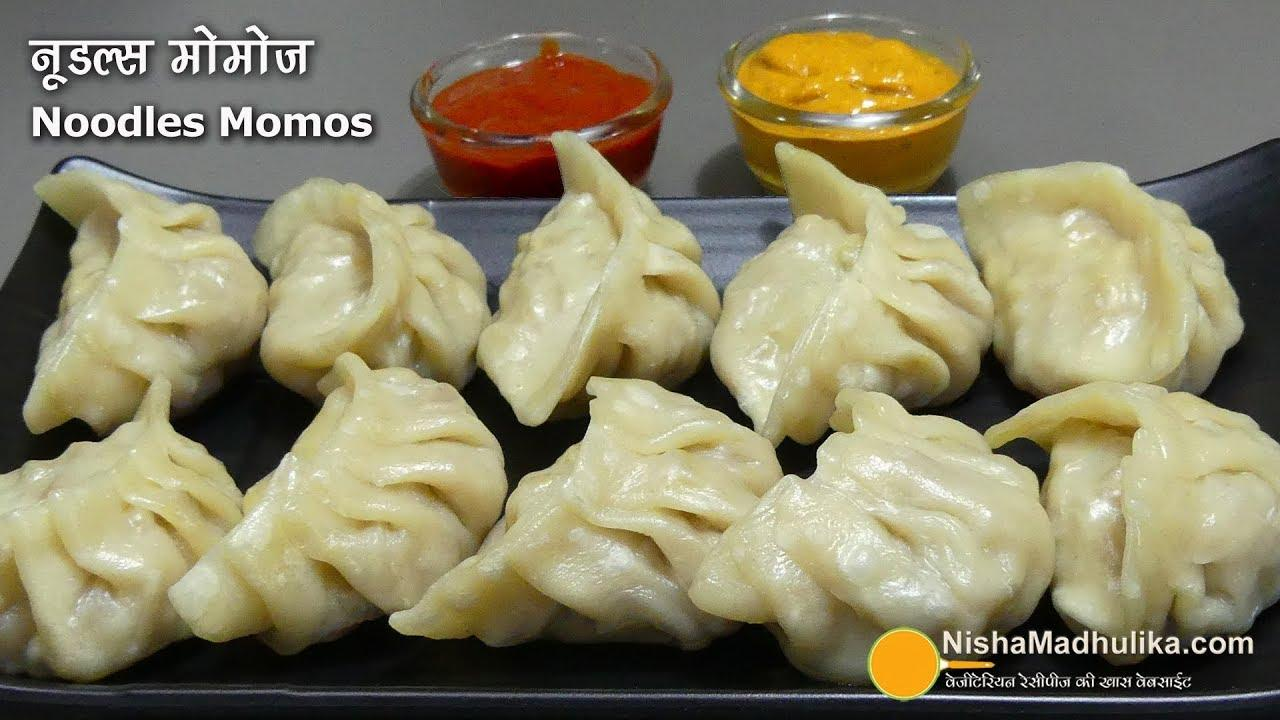momos: (390, 378, 782, 650), (690, 390, 1055, 682), (170, 355, 508, 655), (965, 382, 1280, 662), (710, 142, 992, 444), (230, 355, 508, 652), (0, 378, 242, 681), (478, 132, 720, 425), (958, 162, 1242, 396), (22, 170, 268, 435), (255, 178, 490, 400)
